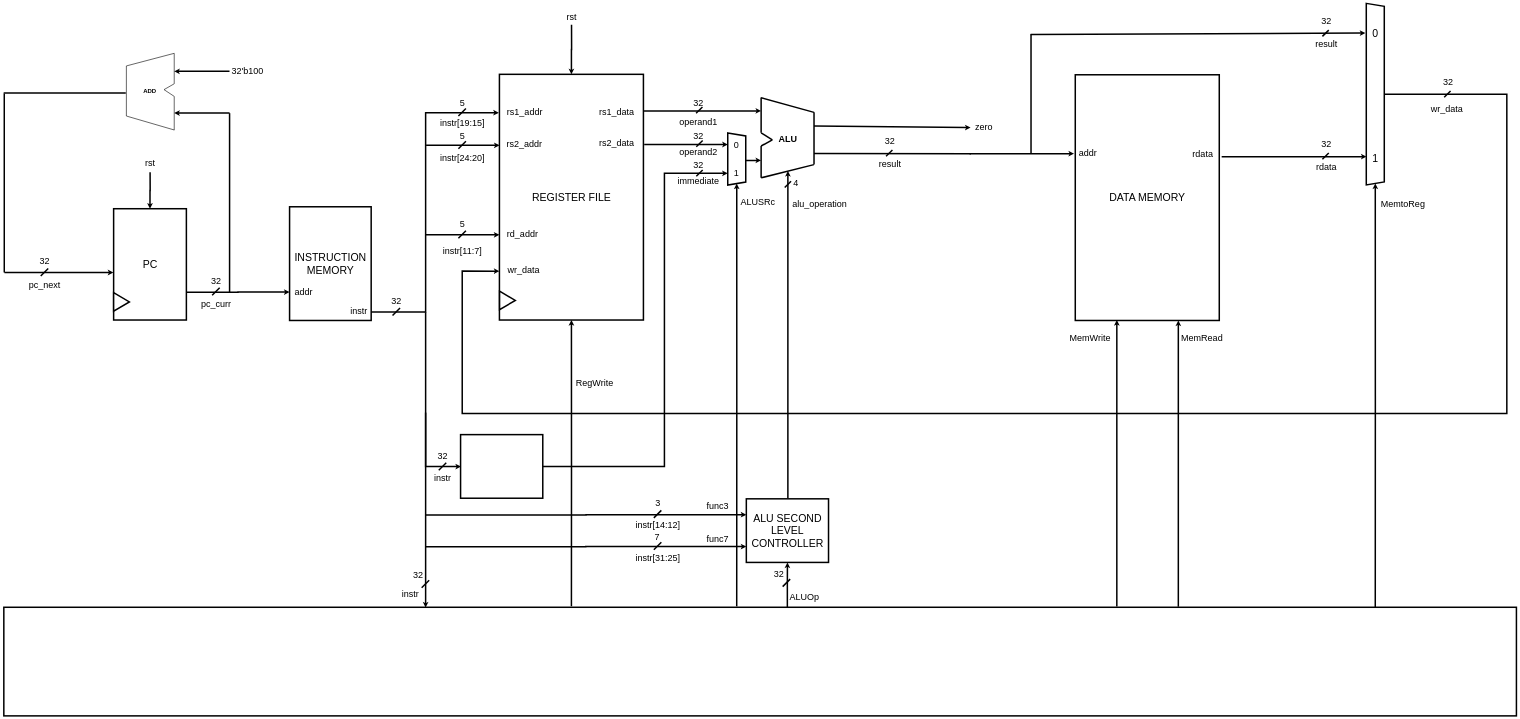
This 1520x719 diagram has some shape labels left out. The shapes that lost their labels are listed below. From the top down, each one's box as (x1, y1, x2, y2) in pixels, then its label:
(460, 434, 543, 499): IMMEDIATE GENERATOR
(3, 606, 1517, 717): ALU FIRST LEVEL CONTROLLER
